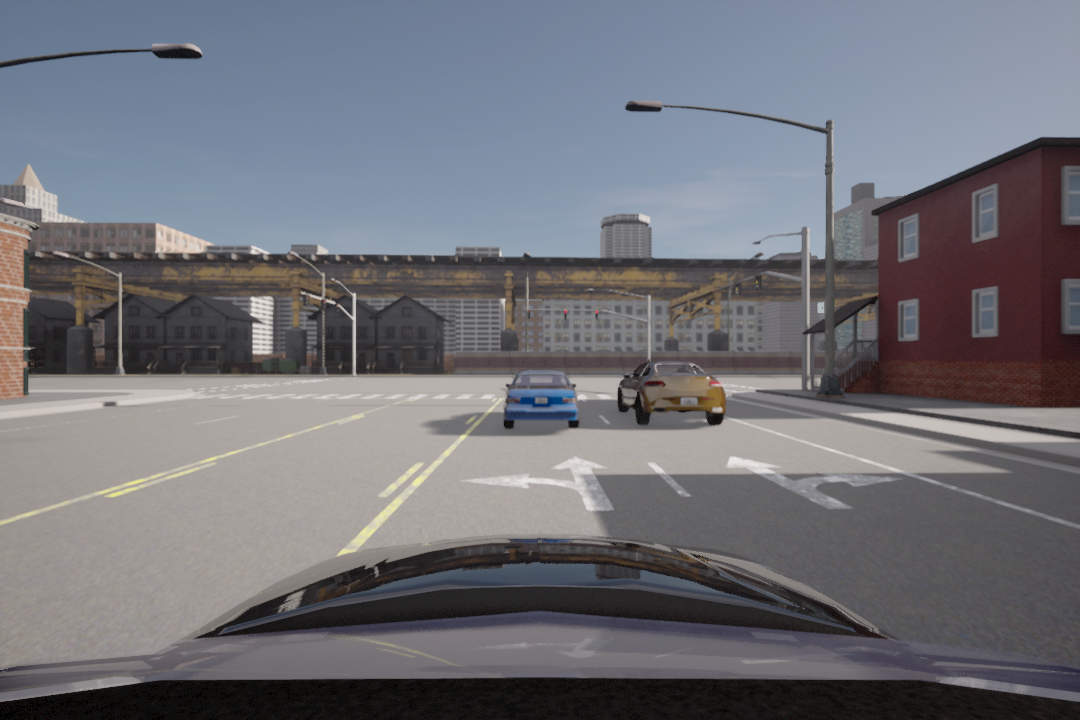RoadSign_forward_left: (447, 453, 627, 521)
RoadSign_forward_right: (714, 453, 907, 518)
walkside: (207, 389, 746, 402)
